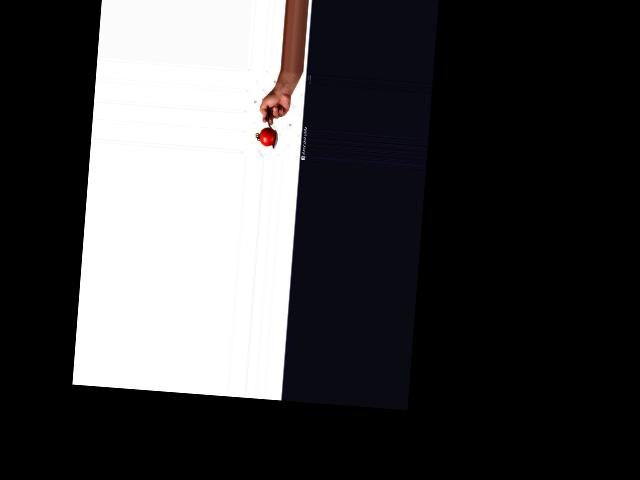tomato: (258, 126, 276, 146)
